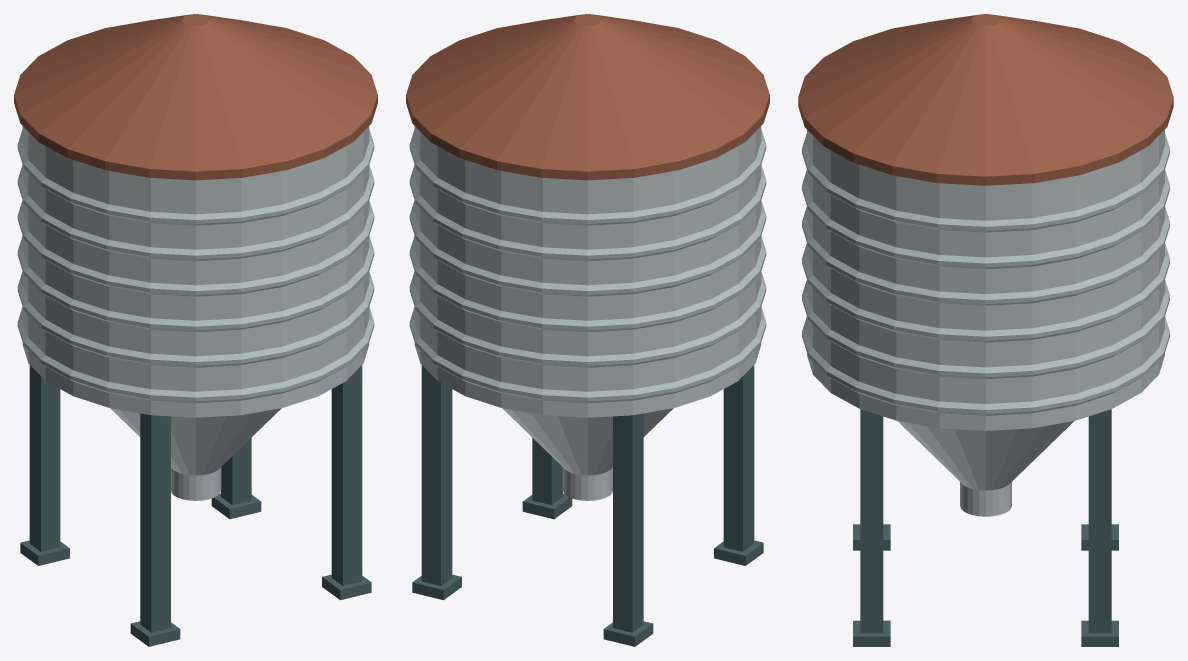
3 renders of one model, left to right at view 1: azimuth 30°, elevation 25°; view 2: azimuth 150°, elevation 25°; view 3: azimuth 270°, elevation 25°, orthographic. The views are drawn at different scales.
Parts seen in each view (by area): view 1: ContinuousRibbedCylinderHopperAndOutlet, CompleteThickConicalRoof, SquareSupportLeg_0, SquareSupportLeg_1, SquareSupportLeg_3, SquareSupportLeg_2, BroadGroundPlate_0, BroadGroundPlate_1, BroadGroundPlate_3, BroadGroundPlate_2; view 2: ContinuousRibbedCylinderHopperAndOutlet, CompleteThickConicalRoof, SquareSupportLeg_3, SquareSupportLeg_2, SquareSupportLeg_0, SquareSupportLeg_1, BroadGroundPlate_3, BroadGroundPlate_2, BroadGroundPlate_0, BroadGroundPlate_1; view 3: ContinuousRibbedCylinderHopperAndOutlet, CompleteThickConicalRoof, SquareSupportLeg_1, SquareSupportLeg_2, BroadGroundPlate_1, BroadGroundPlate_2.
Boxes of the visible parts, left/top/right/bottom form: ContinuousRibbedCylinderHopperAndOutlet: left=17, top=126, right=374, bottom=500; CompleteThickConicalRoof: left=14, top=14, right=377, bottom=180; SquareSupportLeg_0: left=140, top=413, right=170, bottom=632; SquareSupportLeg_1: left=331, top=365, right=362, bottom=585; SquareSupportLeg_3: left=29, top=365, right=60, bottom=551; SquareSupportLeg_2: left=221, top=438, right=251, bottom=504; BroadGroundPlate_0: left=130, top=621, right=180, bottom=646; BroadGroundPlate_1: left=322, top=574, right=371, bottom=600; BroadGroundPlate_3: left=20, top=540, right=69, bottom=565; BroadGroundPlate_2: left=211, top=493, right=261, bottom=519; ContinuousRibbedCylinderHopperAndOutlet: left=409, top=126, right=766, bottom=500; CompleteThickConicalRoof: left=406, top=14, right=769, bottom=180; SquareSupportLeg_3: left=613, top=413, right=643, bottom=632; SquareSupportLeg_2: left=421, top=365, right=452, bottom=585; SquareSupportLeg_0: left=723, top=365, right=754, bottom=551; SquareSupportLeg_1: left=532, top=438, right=562, bottom=504; BroadGroundPlate_3: left=603, top=621, right=653, bottom=646; BroadGroundPlate_2: left=412, top=574, right=461, bottom=600; BroadGroundPlate_0: left=714, top=540, right=763, bottom=565; BroadGroundPlate_1: left=522, top=493, right=572, bottom=519; ContinuousRibbedCylinderHopperAndOutlet: left=802, top=130, right=1169, bottom=516; CompleteThickConicalRoof: left=798, top=14, right=1173, bottom=185; SquareSupportLeg_1: left=860, top=409, right=883, bottom=633; SquareSupportLeg_2: left=1088, top=409, right=1111, bottom=633; BroadGroundPlate_1: left=853, top=620, right=890, bottom=646; BroadGroundPlate_2: left=1081, top=620, right=1118, bottom=646.
Bounding box in the file's own units: 2.6 × 4.36 × 2.6.
